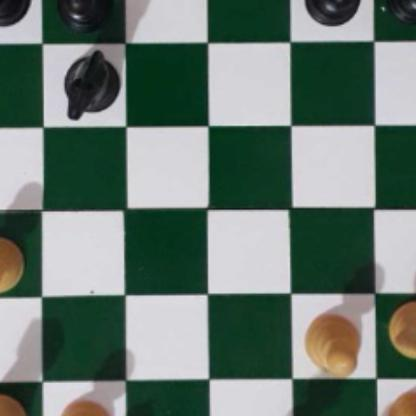black-knight: (58, 49, 124, 121)
black-pawn: (58, 0, 110, 28), (302, 0, 360, 25), (0, 0, 26, 26), (386, 0, 416, 21)
white-knight: (386, 295, 416, 367)
white-pawn: (302, 309, 360, 376), (0, 229, 28, 292), (53, 395, 114, 416), (383, 386, 416, 416)
white-rook: (0, 391, 28, 416)
